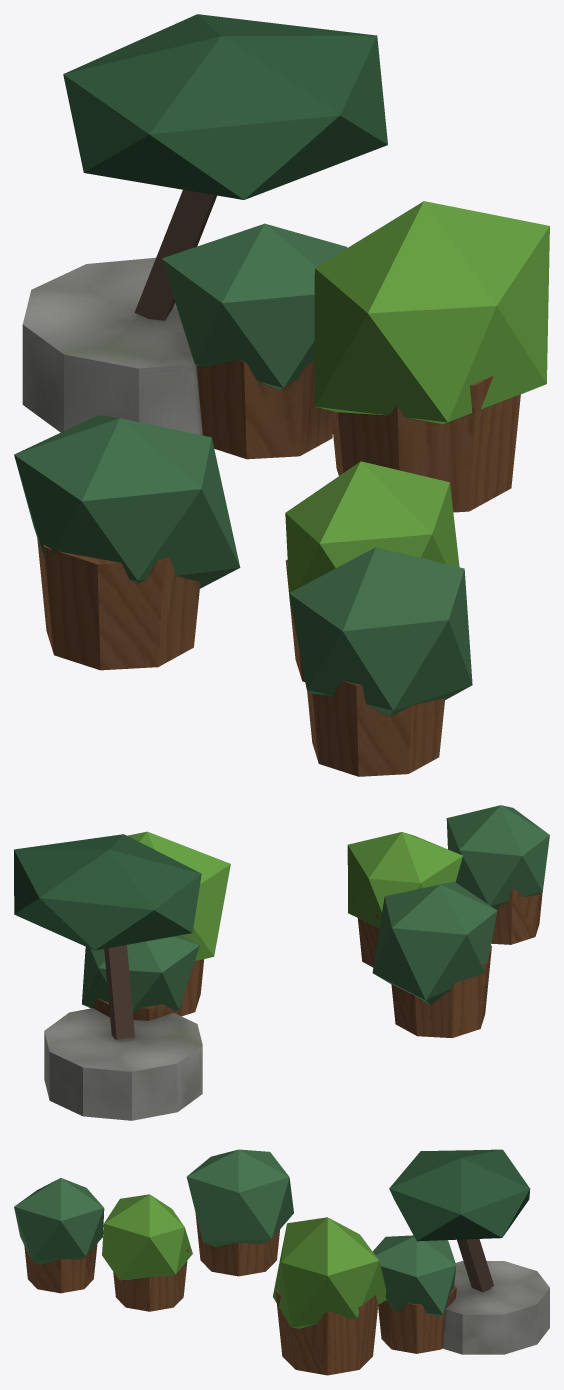
Rendered from krukor_tex.glb.
3 views of the same model, one above another, from view 1: azimuth 30°, elevation 25°; view 2: azimuth 150°, elevation 25°; view 3: azimuth 270°, elevation 25° (orthographic). The views are drawn at different scales.
Parts seen in each view (by area): view 1: krukor; view 2: krukor; view 3: krukor.
Boxes of the visible parts, x1,y1,x2,y2 form: krukor: (14, 14, 549, 776); krukor: (14, 805, 549, 1120); krukor: (14, 1149, 549, 1375).
Bounding box in the file's own units: 1.55 × 0.9002 × 2.41.
Materials: 6 (2 with a texture image).
